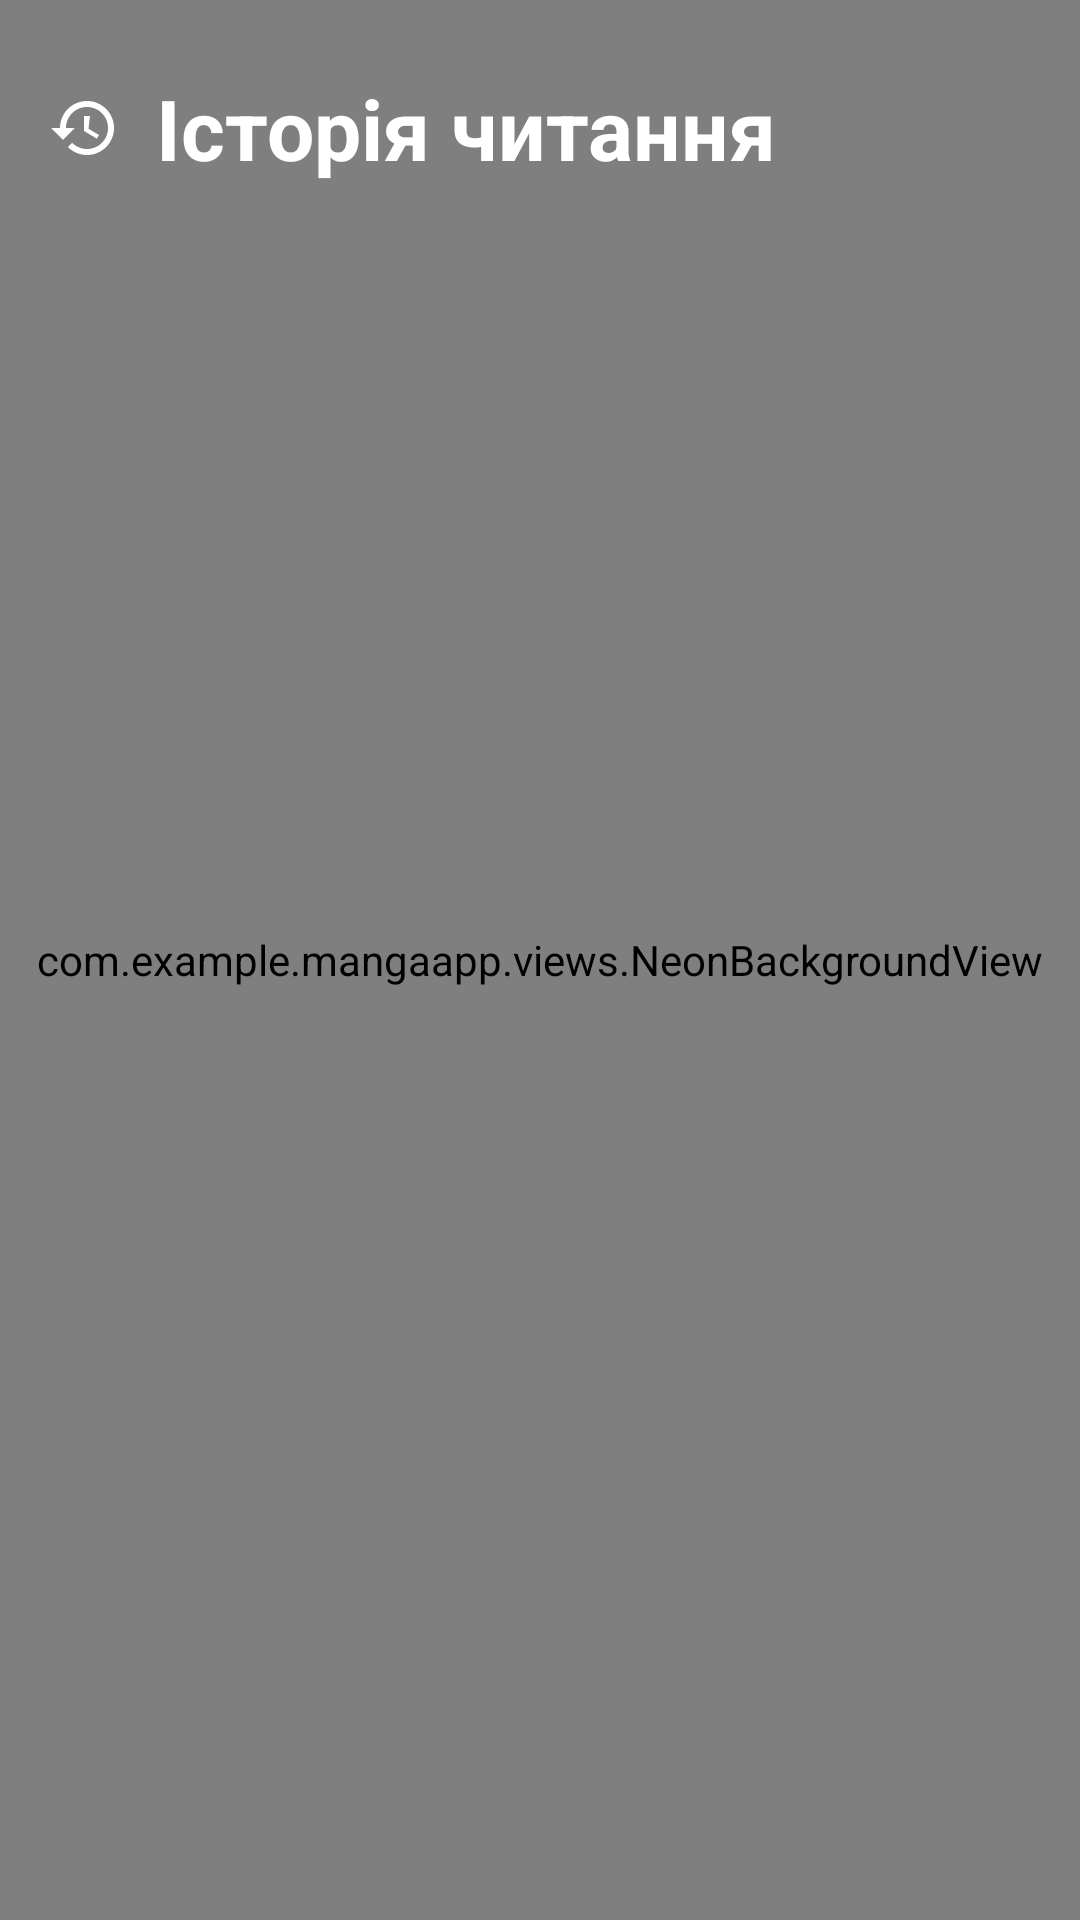

Where icons sit on this 1080*1920 app screen, as {"left": x1, "top": y1, "right": x2, "bottom": y2}:
history: {"left": 51, "top": 101, "right": 114, "bottom": 155}
